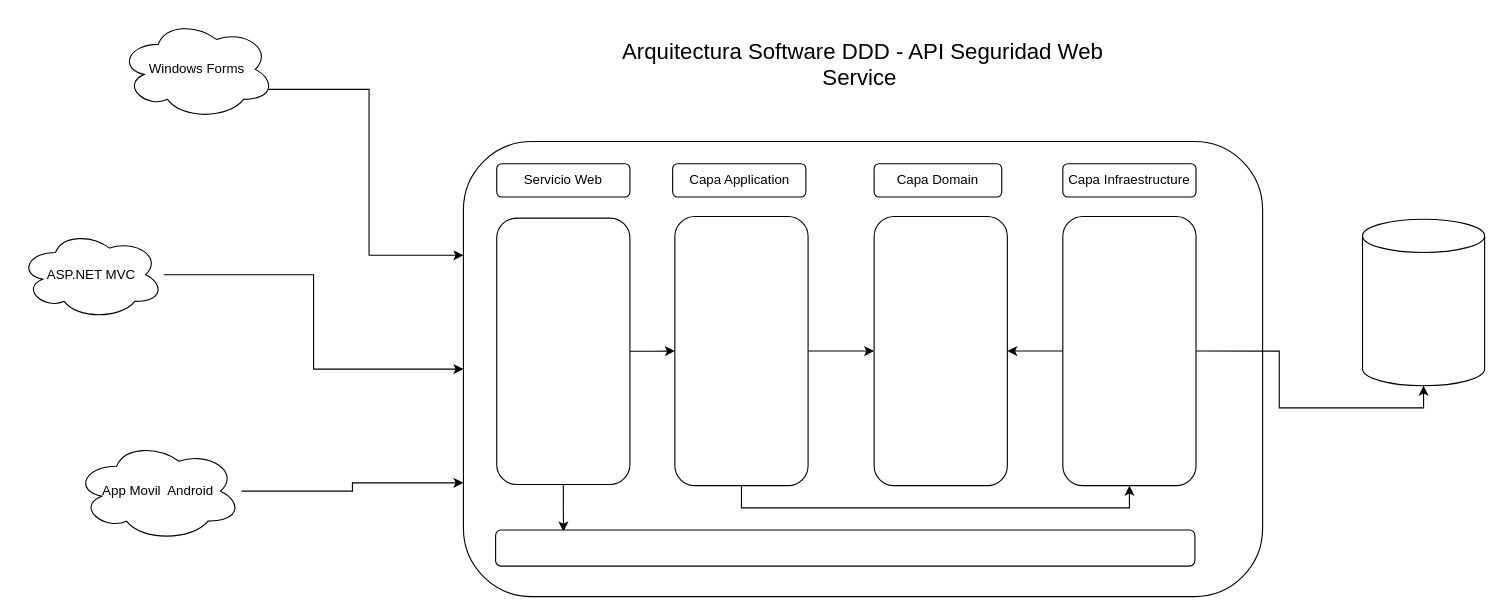
This 1504x616 diagram has some shape labels left out. Each missing label, with the centre of its shape:
"Capa Transversal" goes at point (845, 547).
"DataBase" goes at point (1423, 302).
